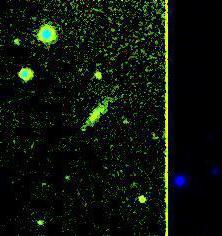star: (113, 101, 143, 131)
